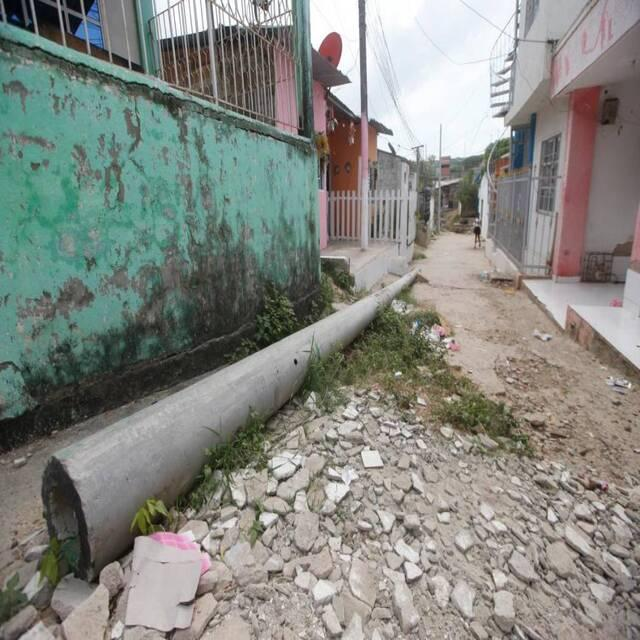Inclined Pole: (33, 273, 415, 569)
